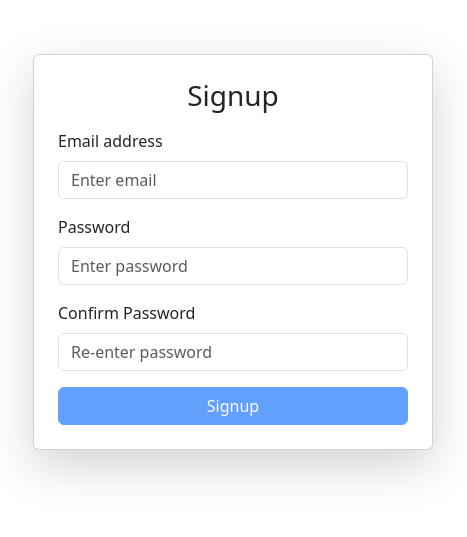
Test: Signup Component › shows success message on successful signup
Type "test@example.com" into the field labelled "Email address" at (233, 180), box [58,161,408,199]
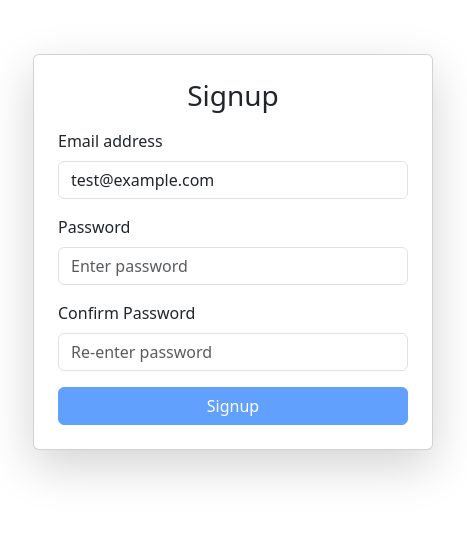
Type "123456" into the password field labelled "Password" at (233, 266), box [58,247,408,285]
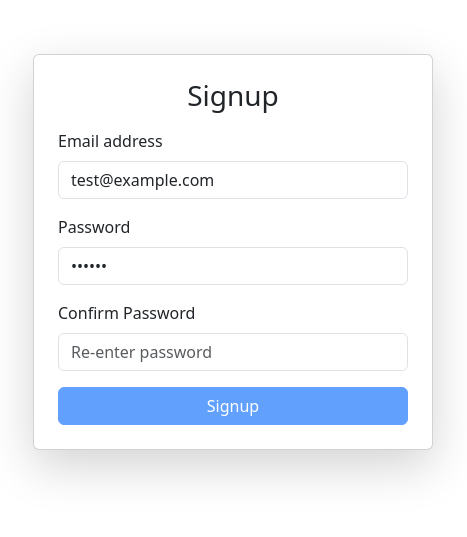
Type "123456" into the password field labelled "Confirm Password" at (233, 352), box [58,333,408,371]
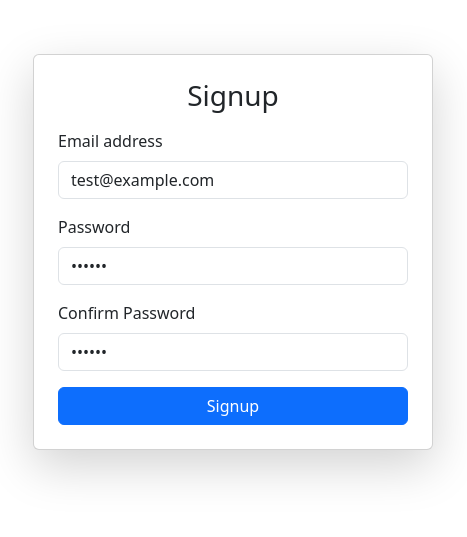
Click the button "Signup" at (233, 406), box [58,387,408,425]
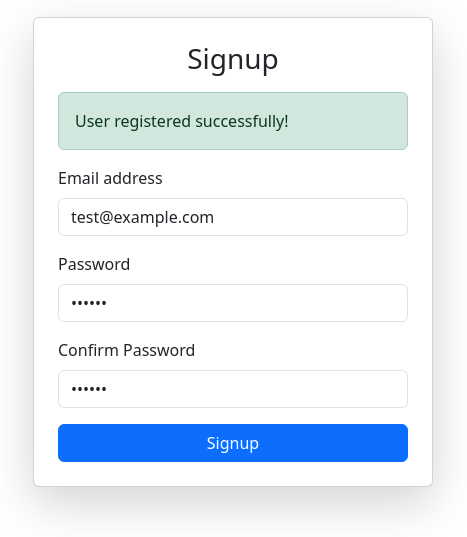
Expected: the text "User registered successfully!" is shown, [58,92,408,150]
